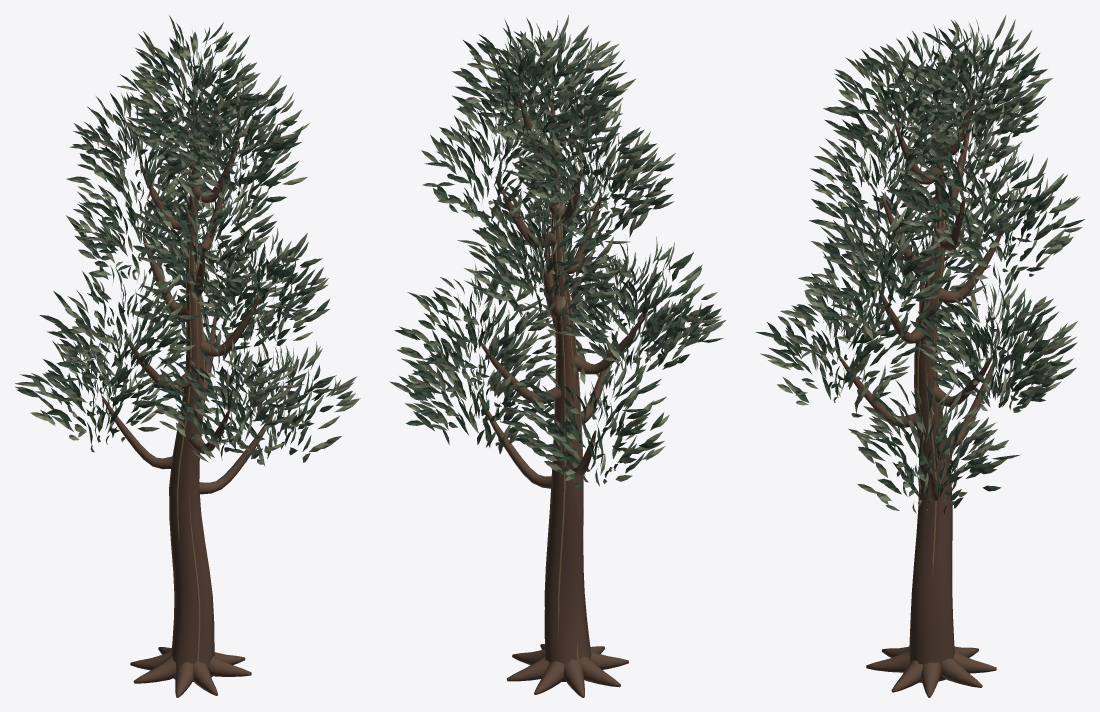
File: stern_cypress.glb
The picture shows the model from 3 angles, left to right: view 1: azimuth 30°, elevation 25°; view 2: azimuth 150°, elevation 25°; view 3: azimuth 270°, elevation 25°; orthographic projection. The views are drawn at different scales.
Visible parts, largest first — view 1: stern_cypress; view 2: stern_cypress; view 3: stern_cypress.
Part boxes in pixels (box(x1,y1,x2,y2)): stern_cypress: box(15, 15, 360, 697); stern_cypress: box(389, 14, 725, 697); stern_cypress: box(755, 15, 1085, 697).
Bounding box in the file's own units: 3.4 × 6.71 × 3.02.
Materials: 3 (3 with a texture image).
